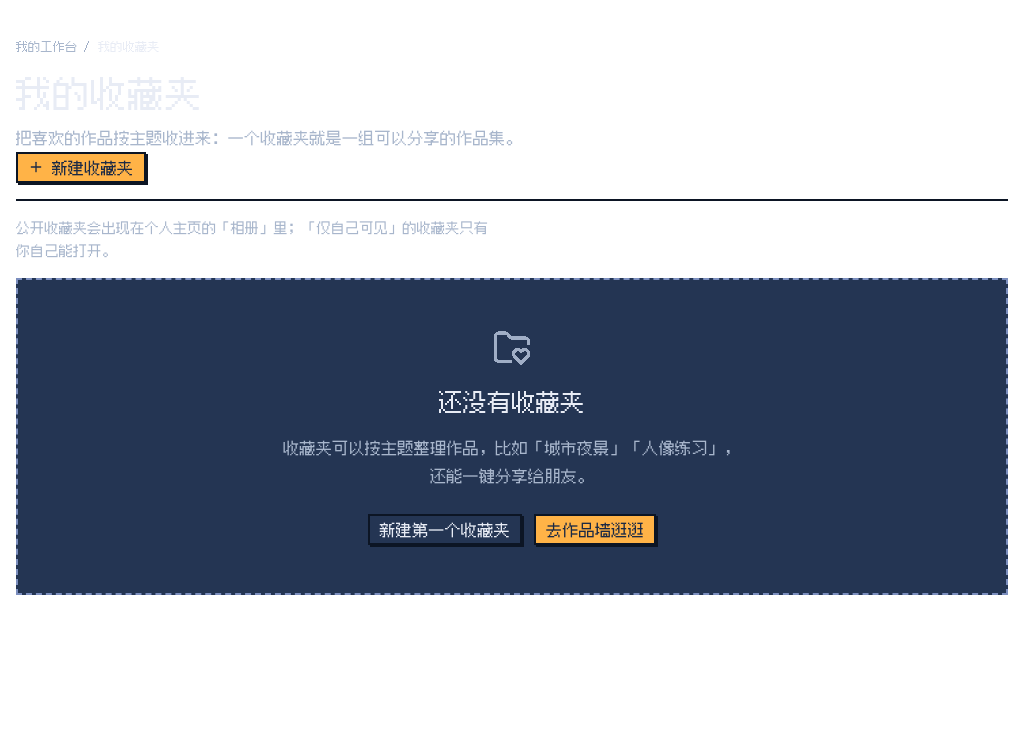
Scenario: CollectionsPage › 标题为空时不发请求，并就地提示需要 1–40 个字
The image size is (1024, 739).
Click the button "新建收藏夹": click(81, 167) [16,152,146,183]
(page scrolled)
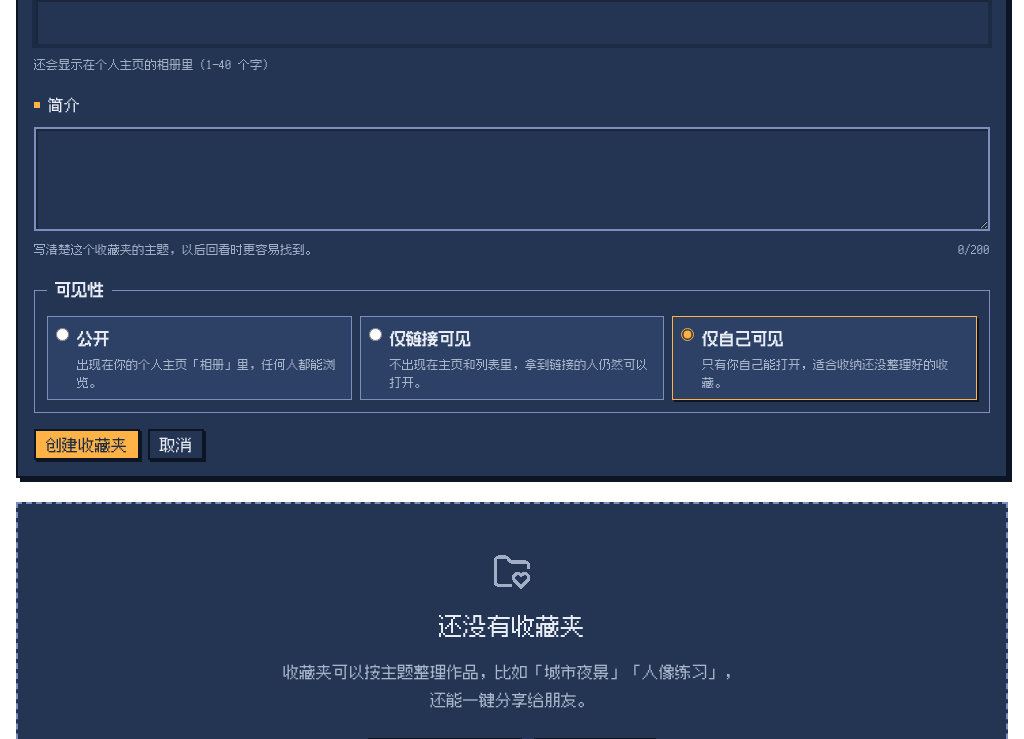
Click the button "创建收藏夹": click(87, 445) [34,429,140,460]
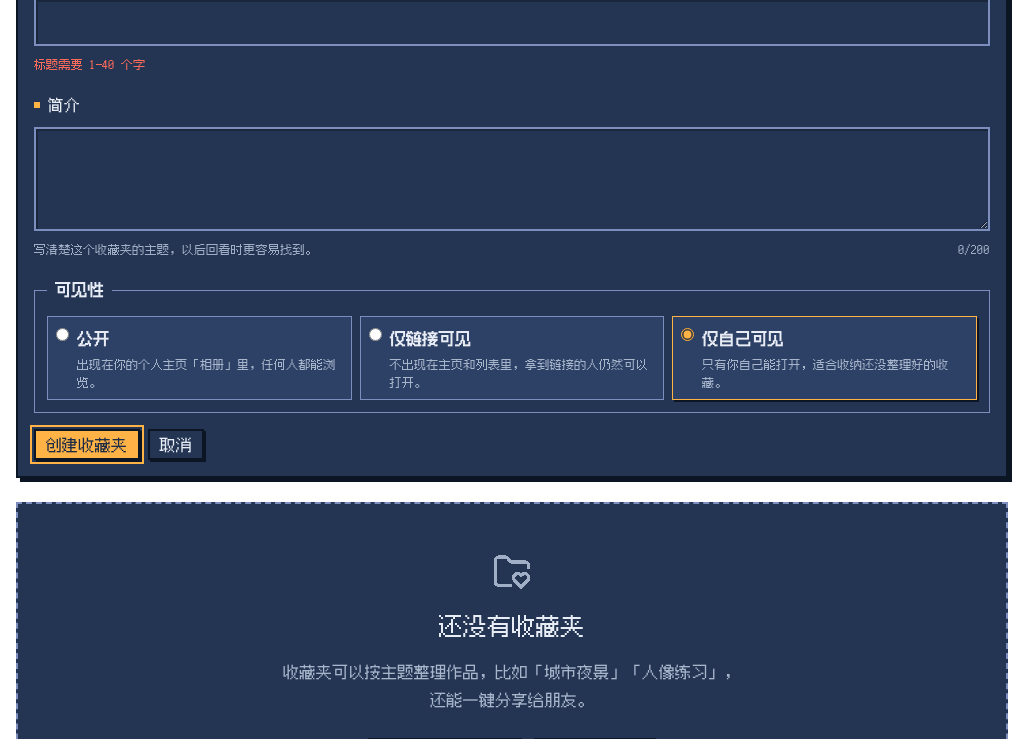
Expected: the message "标题需要 1–40 个字" is shown, [34,56,146,72]
